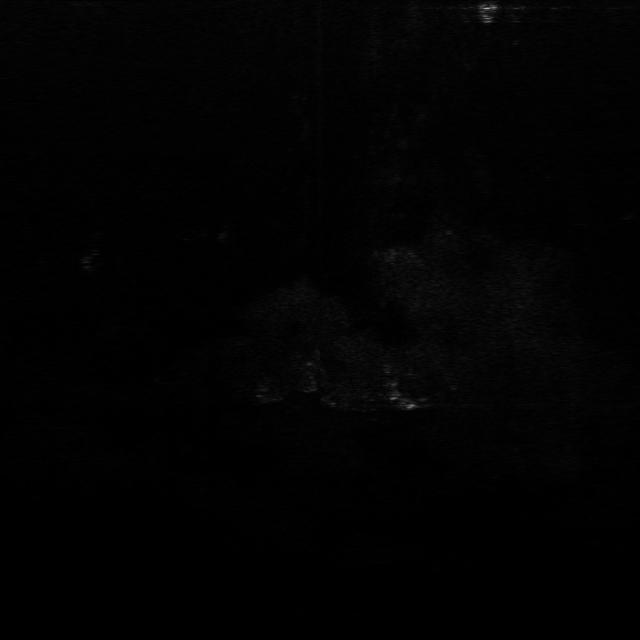rov: (474, 0, 504, 24)
